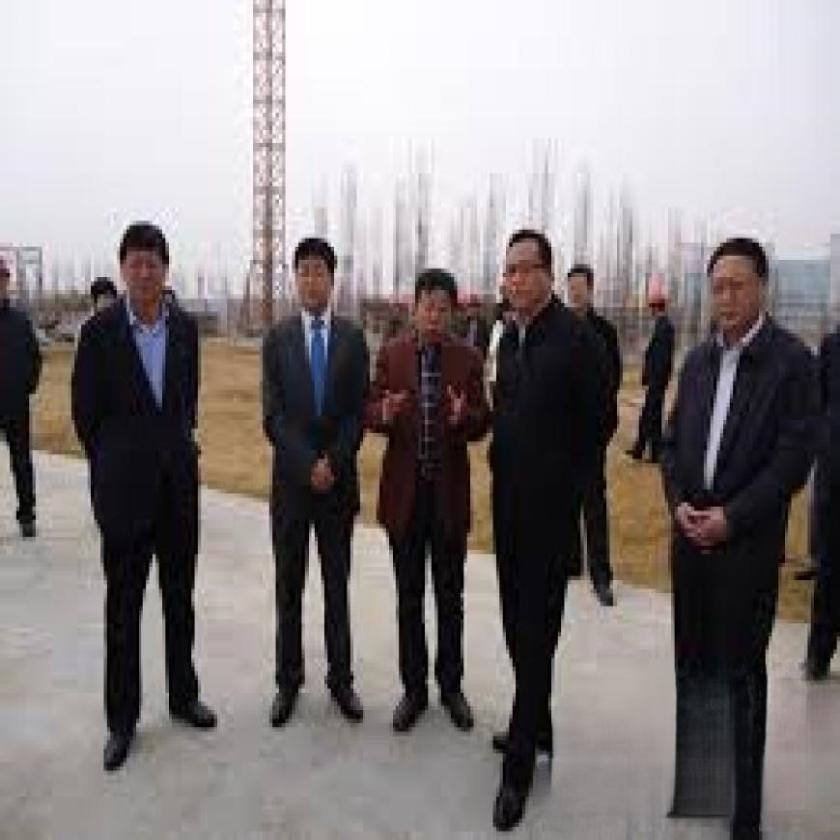Sin_casco: (708, 235, 777, 350), (499, 227, 558, 320), (116, 219, 168, 322), (412, 256, 462, 348), (290, 235, 340, 315)
